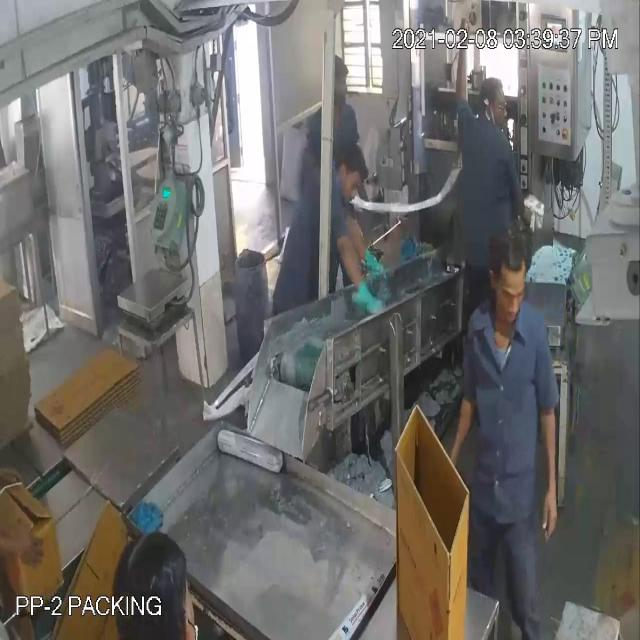gloves: (331, 236, 398, 342)
no-gloves: (526, 382, 570, 540), (444, 370, 486, 476)
